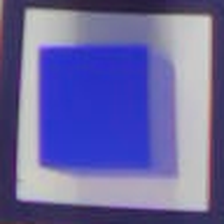cube: (28, 39, 191, 183)
